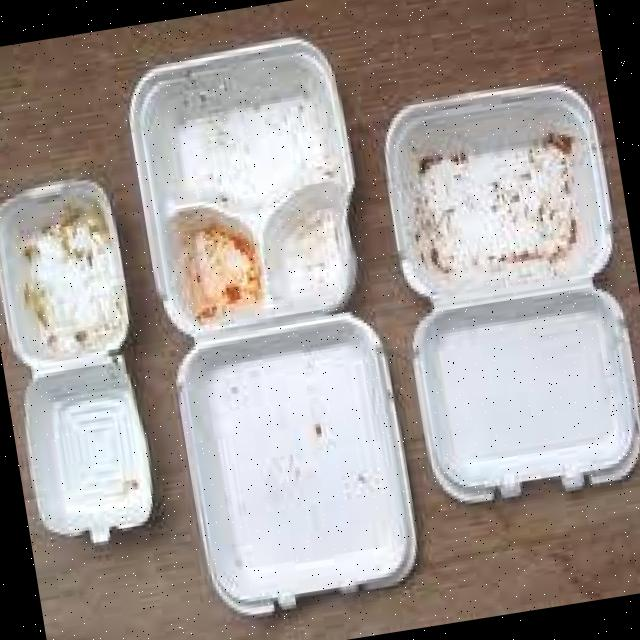styrofoam: (115, 24, 426, 626), (369, 67, 640, 512), (0, 170, 165, 555)
